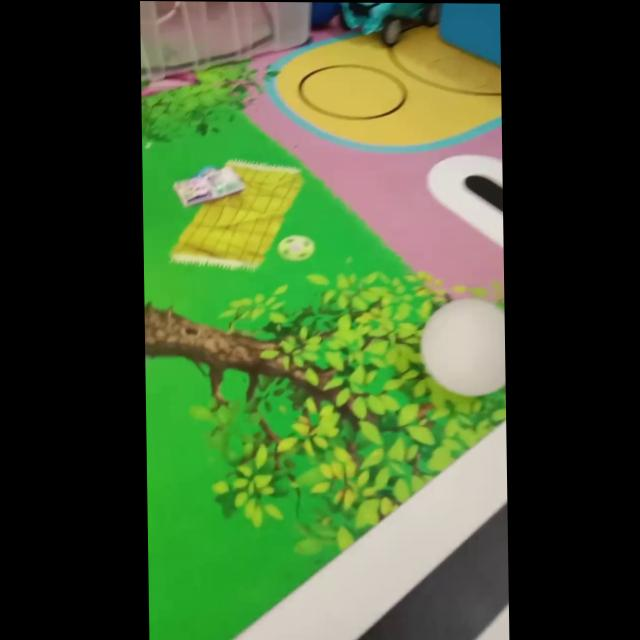white ball: (418, 297, 504, 398)
